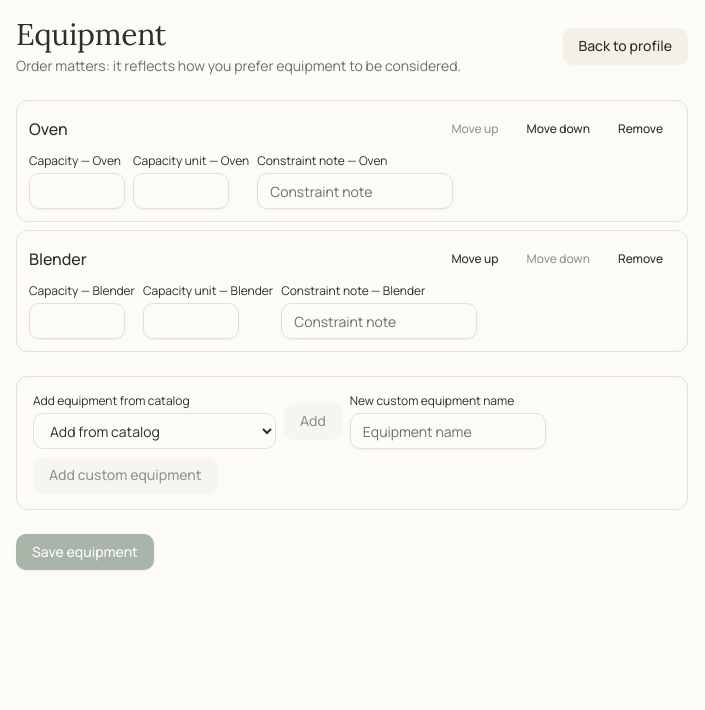
Test: ProfileEquipmentPage › rejects a capacity value with no unit as an incoherent pair
This screenshot has width=705, height=710.
In the number field with test id "profile-equipment-capacity-eq-oven": (77, 191) [29, 173, 125, 209], type "5"
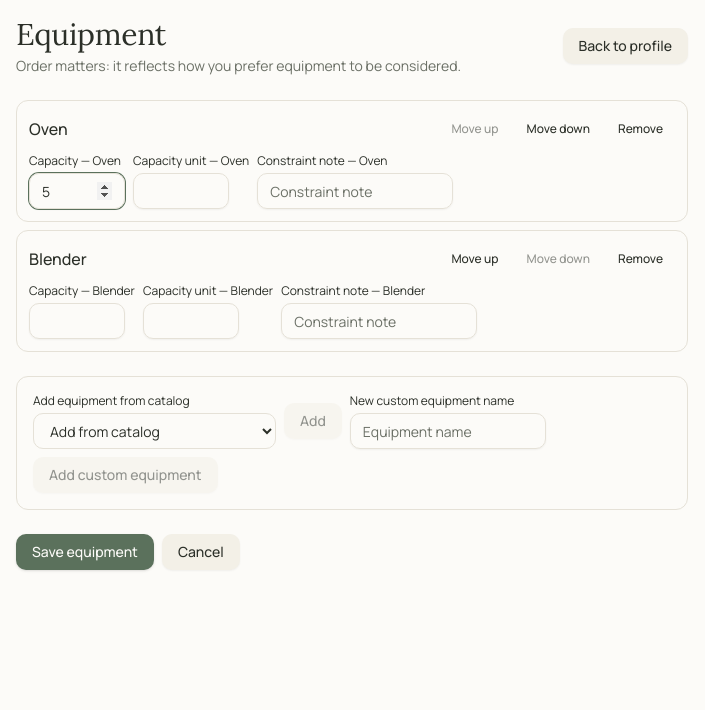
Click the button with test id "profile-equipment-save": (85, 552) [16, 534, 154, 570]
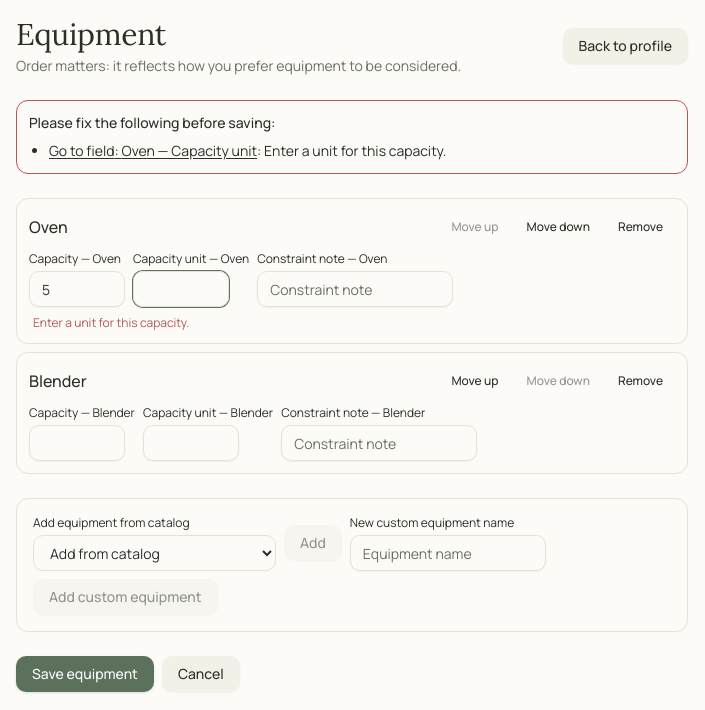
Now the message "Enter a unit for this capacity." is shown, box [33, 314, 189, 331]
